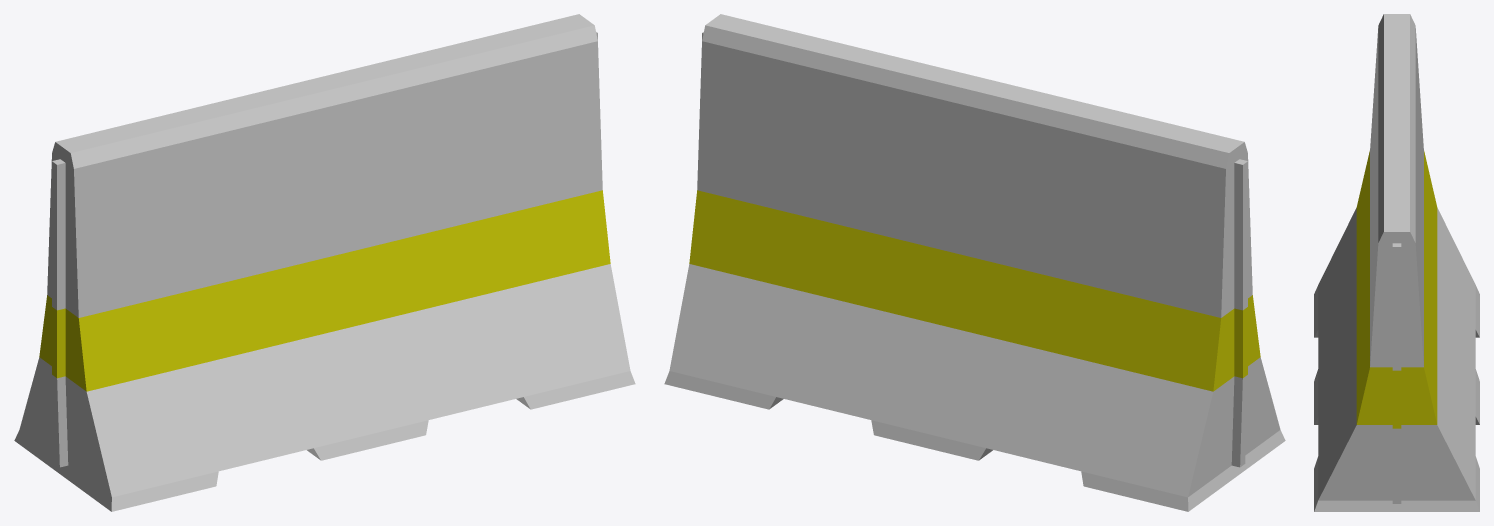
File: ConcreteBarrier.fbx
The picture shows the model from 3 angles, left to right: view 1: azimuth 30°, elevation 25°; view 2: azimuth 150°, elevation 25°; view 3: azimuth 270°, elevation 25°; orthographic projection. The views are drawn at different scales.
Visible parts, largest first — view 1: Cube; view 2: Cube; view 3: Cube.
Boxes of the visible parts, <box> form: Cube: <box>14,14,635,511</box>; Cube: <box>664,14,1285,511</box>; Cube: <box>1314,14,1479,511</box>.
Bounding box in the file's own units: 89.56 × 52.03 × 27.9.
